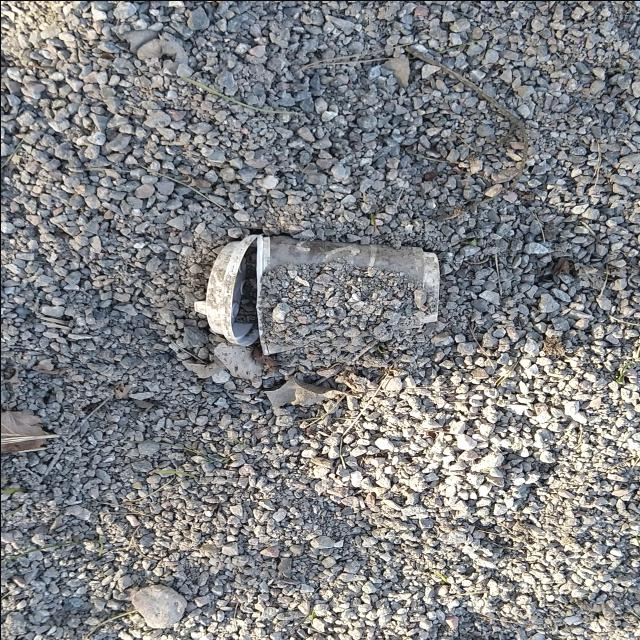Paper cup: (255, 234, 438, 355)
Plastic lid: (194, 233, 263, 345)
